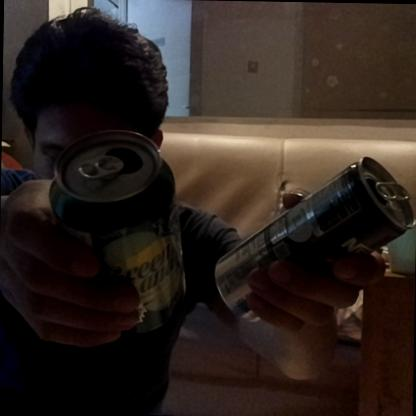alumunium_can: (214, 152, 416, 321), (44, 123, 195, 340)
